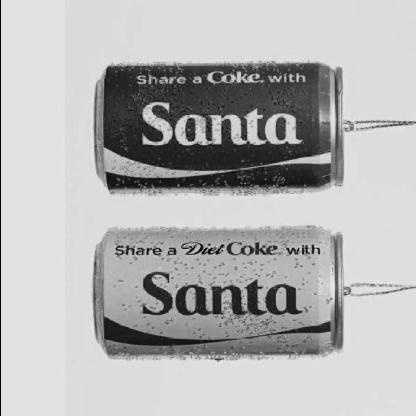alumunium_can: (91, 60, 348, 197), (90, 224, 346, 360)
